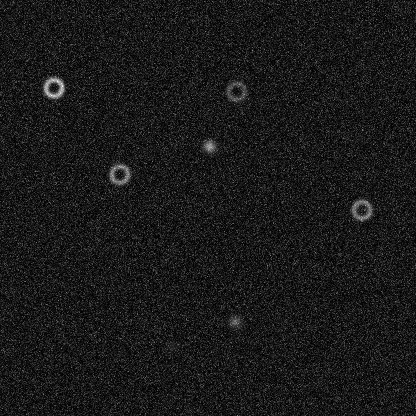Ring: (41, 75, 65, 99), (349, 197, 373, 221), (224, 79, 248, 103), (107, 162, 131, 186)
Spot: (226, 313, 242, 329), (163, 339, 179, 355), (201, 138, 217, 154)
